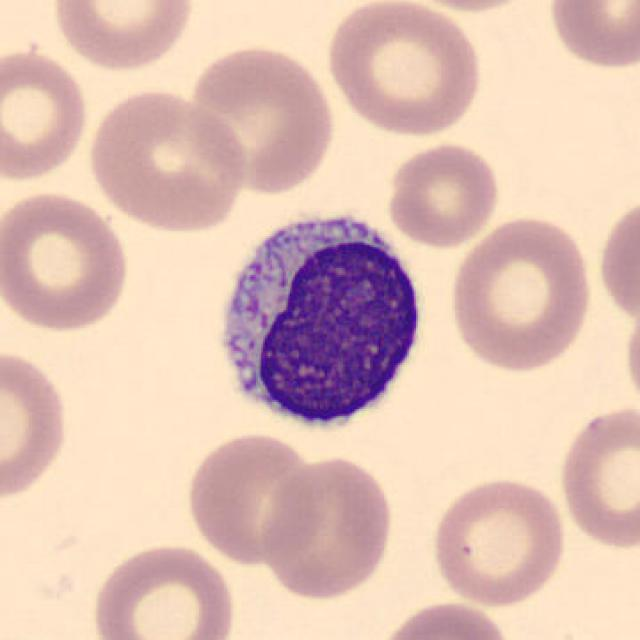Lymphocyte: (204, 199, 436, 443)
RBC: (444, 212, 598, 376), (84, 84, 252, 234), (185, 41, 338, 196), (321, 0, 487, 139), (258, 451, 398, 603), (181, 428, 327, 566), (0, 187, 135, 335), (427, 473, 569, 610), (87, 539, 240, 640), (0, 42, 92, 185), (384, 140, 503, 250), (555, 398, 638, 552), (0, 344, 73, 506), (46, 0, 199, 74), (542, 0, 638, 72), (594, 188, 638, 332), (373, 597, 515, 640), (620, 296, 640, 420), (391, 0, 548, 14)
